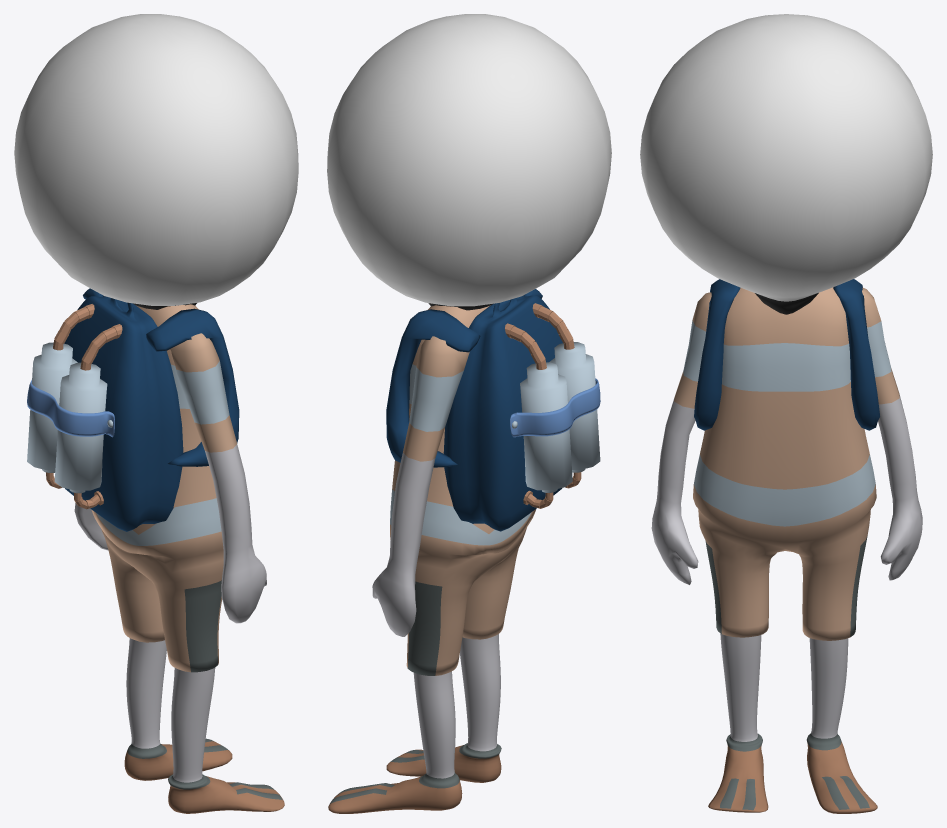
Rendered from Skyler.fbx.
3 renders of one model, left to right at view 1: azimuth 30°, elevation 25°; view 2: azimuth 150°, elevation 25°; view 3: azimuth 270°, elevation 25°, orthographic. The views are drawn at different scales.
Visible parts, largest first — view 1: Sphere.002, Cylinder.002, body.001, body, arm1, arm1.001; view 2: Sphere.002, Cylinder.002, body.001, body, arm1.001; view 3: Sphere.002, body.001, body, arm1.001, arm1, Cylinder.002.
Boxes of the visible parts, x1=… form: Sphere.002: x1=14, y1=14, x2=298, y2=309; Cylinder.002: x1=27, y1=288, x2=239, y2=531; body.001: x1=91, y1=304, x2=223, y2=672; body: x1=124, y1=638, x2=284, y2=813; arm1: x1=170, y1=333, x2=266, y2=623; arm1.001: x1=74, y1=296, x2=108, y2=550; Sphere.002: x1=327, y1=14, x2=611, y2=310; Cylinder.002: x1=386, y1=289, x2=600, y2=531; body.001: x1=390, y1=305, x2=536, y2=675; body: x1=328, y1=634, x2=501, y2=813; arm1.001: x1=372, y1=336, x2=469, y2=636; Sphere.002: x1=640, y1=14, x2=932, y2=314; body.001: x1=693, y1=287, x2=876, y2=640; body: x1=708, y1=633, x2=877, y2=813; arm1.001: x1=862, y1=287, x2=922, y2=580; arm1: x1=651, y1=292, x2=711, y2=584; Cylinder.002: x1=694, y1=279, x2=879, y2=430.
Size of the model in its own units: 304 by 932 by 332.
